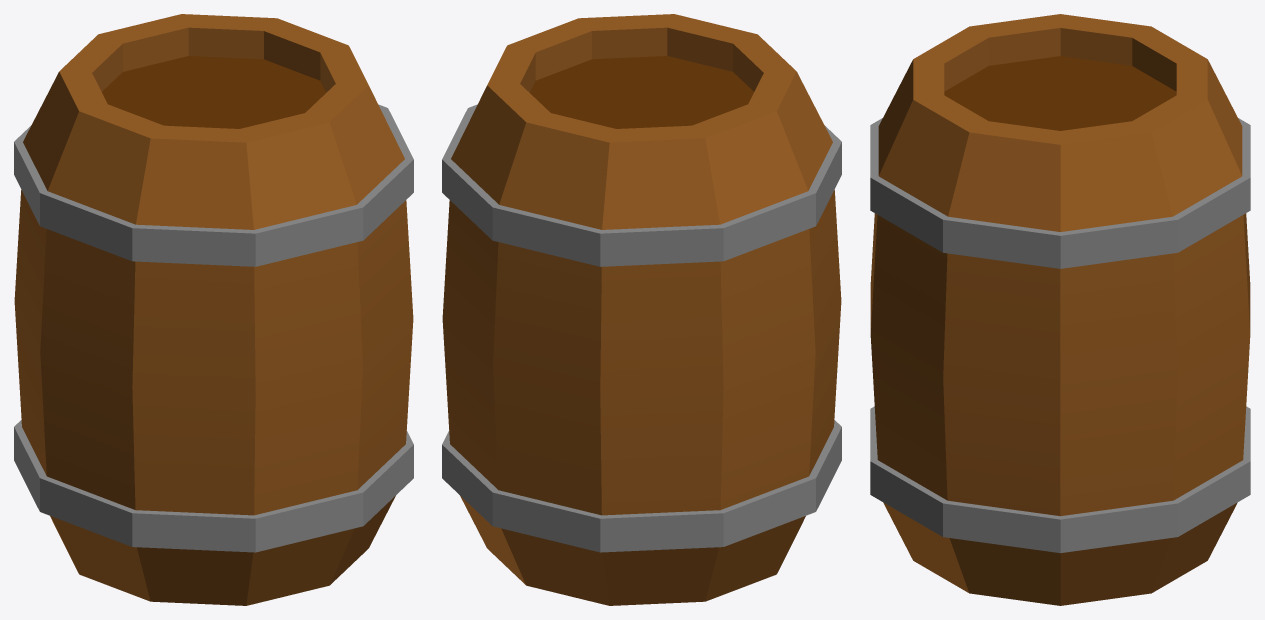
Rendered from Barrel_Sealed_01.fbx.
3 views of the same model, side by side, from view 1: azimuth 30°, elevation 25°; view 2: azimuth 150°, elevation 25°; view 3: azimuth 270°, elevation 25° (orthographic).
Parts seen in each view (by area): view 1: Model; view 2: Model; view 3: Model.
Part boxes in pixels (x1,y1,x2,y2): Model: [14, 14, 413, 605]; Model: [442, 14, 841, 605]; Model: [870, 14, 1250, 605].
Size of the model in its own units: 315 by 401 by 300.
